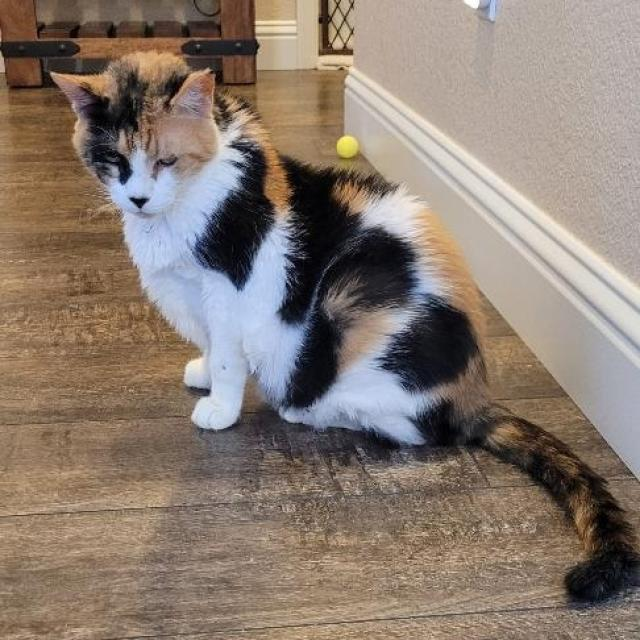calico_cat: (42, 42, 229, 225)
